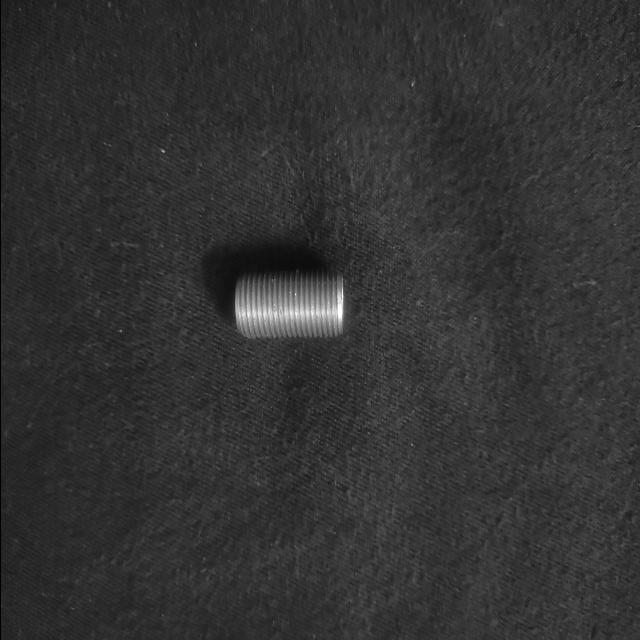Normal: (231, 268, 346, 344)
